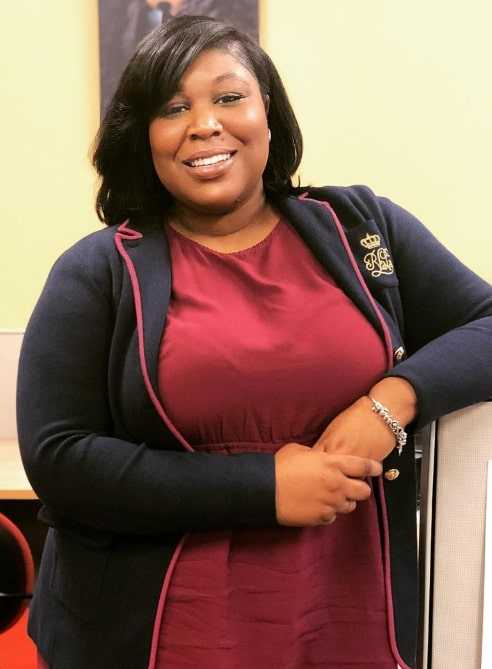Staff: (91, 6, 342, 307)
